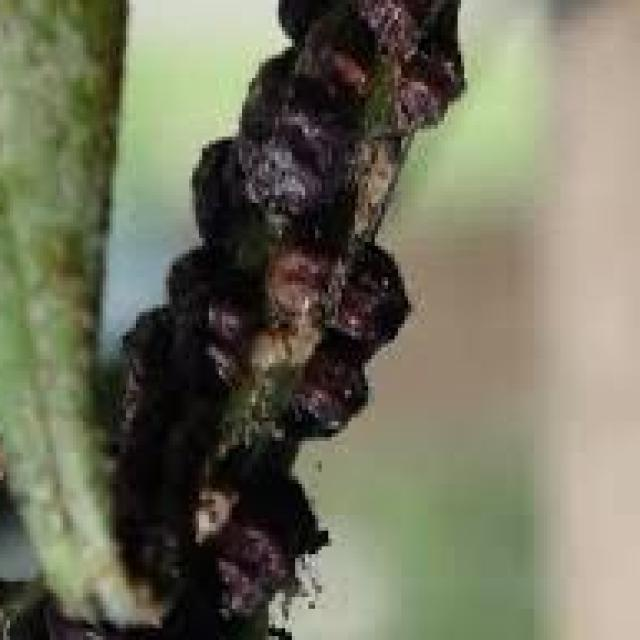BlackScale: (123, 0, 461, 636)
